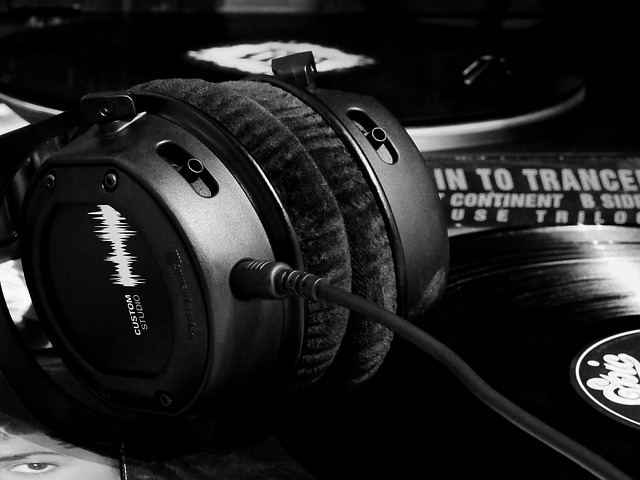headphones: (1, 74, 448, 417)
